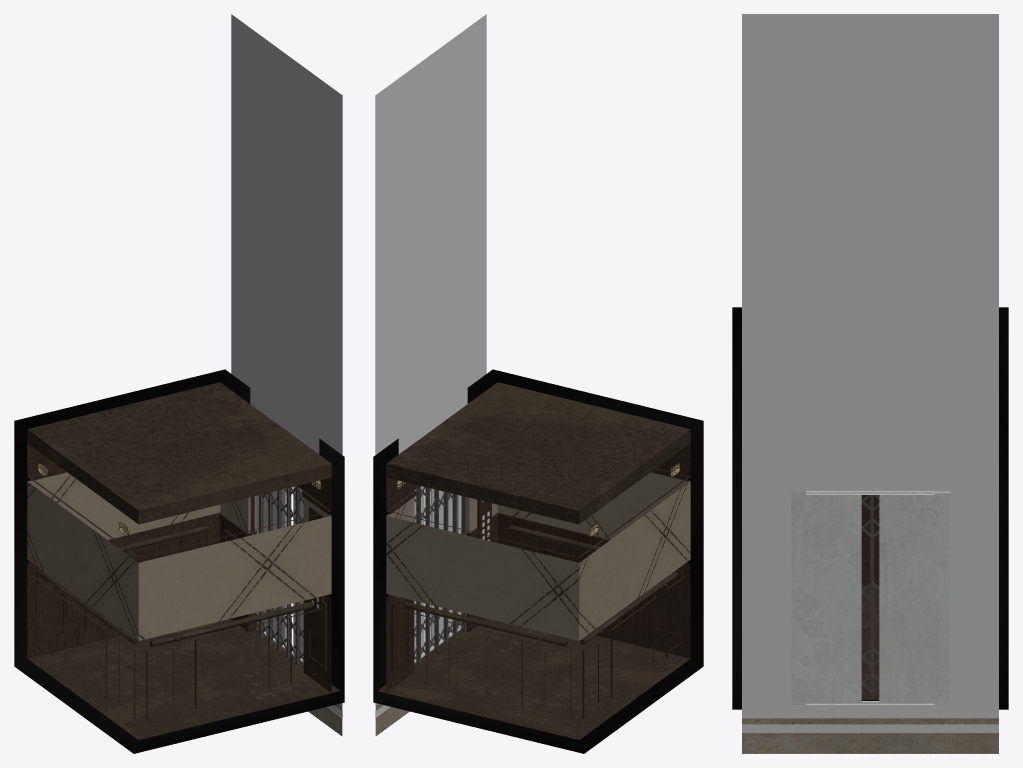
File: PalacioNacional.fbx
3 views of the same model, side by side, from view 1: azimuth 30°, elevation 25°; view 2: azimuth 150°, elevation 25°; view 3: azimuth 270°, elevation 25° (orthographic). The views are drawn at different scales.
Parts seen in each view (by area): view 1: Cabina, Exterior, RejaSimple; view 2: Cabina, Exterior, RejaSimple; view 3: Exterior, Cabina, RejaSimple.
Boxes of the visible parts, x1,y1,x2,y2 form: Cabina: (14,369,344,753); Exterior: (231,14,342,735); RejaSimple: (252,486,303,664); Cabina: (373,369,703,753); Exterior: (375,14,486,735); RejaSimple: (414,486,466,665); Exterior: (742,14,998,753); Cabina: (732,307,1008,709); RejaSimple: (861,495,879,695).
Size of the model in its own units: 236 by 251 by 698.
